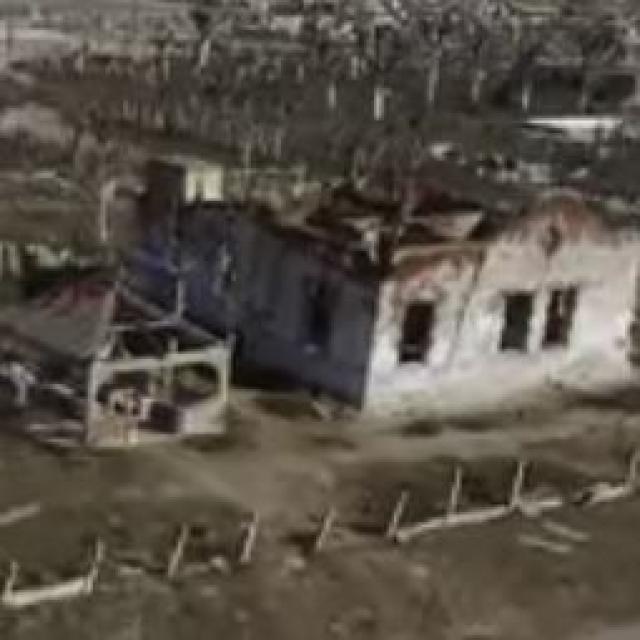collapsed_building: (233, 170, 628, 407), (15, 284, 226, 442)
